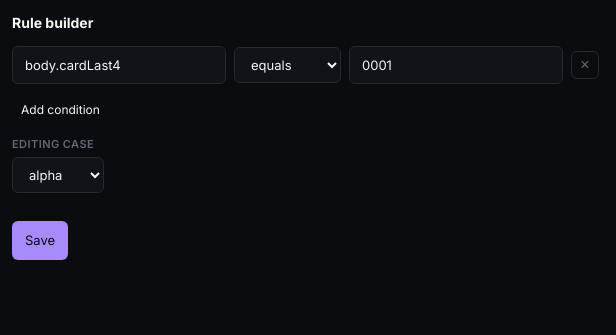
Test case: RuleBuilder › shows the server's shadow warning after a save
This screenshot has width=616, height=335.
Click the button "Save" at (40, 241), box x1=12 y1=222 x2=68 y2=260
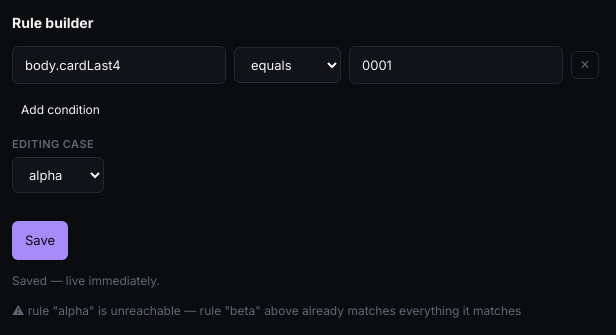
expect the text "unreachable" is shown: met, box x1=28 y1=303 x2=521 y2=318
